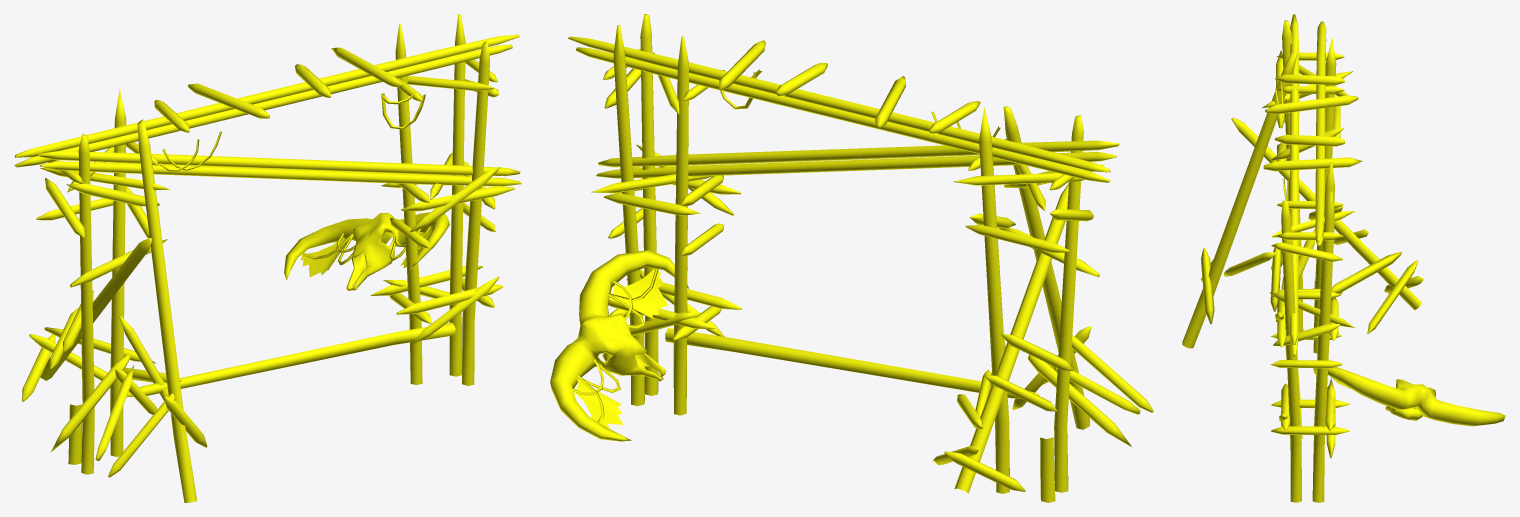
File: gaint_gate_01_d.glb
The picture shows the model from 3 angles, left to right: view 1: azimuth 30°, elevation 25°; view 2: azimuth 150°, elevation 25°; view 3: azimuth 270°, elevation 25°; orthographic projection. The views are drawn at different scales.
Visible parts, largest first — view 1: Object11, Object02; view 2: Object11, Object02; view 3: Object11, Object02.
Part boxes in pixels (x1,y1,x2,y2): Object11: (14,14,521,502); Object02: (284,212,449,290); Object11: (568,14,1153,502); Object02: (550,250,688,441); Object11: (1182,14,1423,502); Object02: (1313,367,1505,426).
Bounding box in the file's own units: 22.4 × 15.29 × 13.98.
2 materials, 2 textured.
